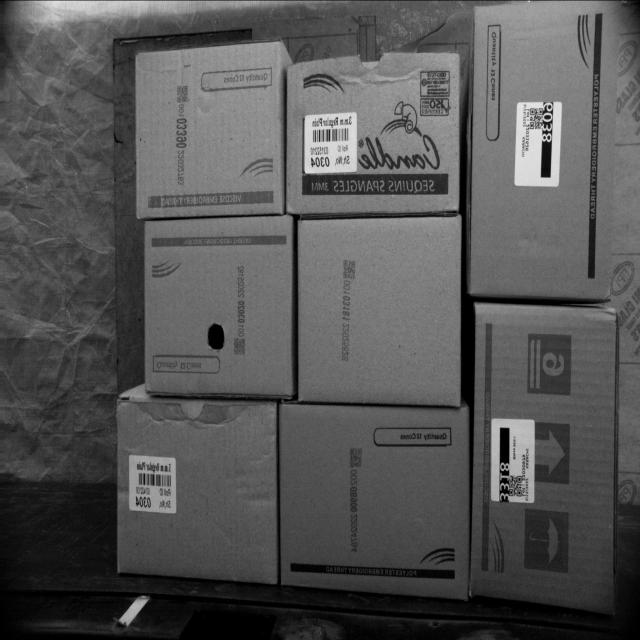cardboxes: (468, 304, 622, 615), (468, 0, 618, 308), (279, 408, 470, 590), (295, 210, 465, 408), (285, 52, 463, 220), (116, 402, 277, 584), (146, 213, 295, 395), (135, 42, 284, 218)
